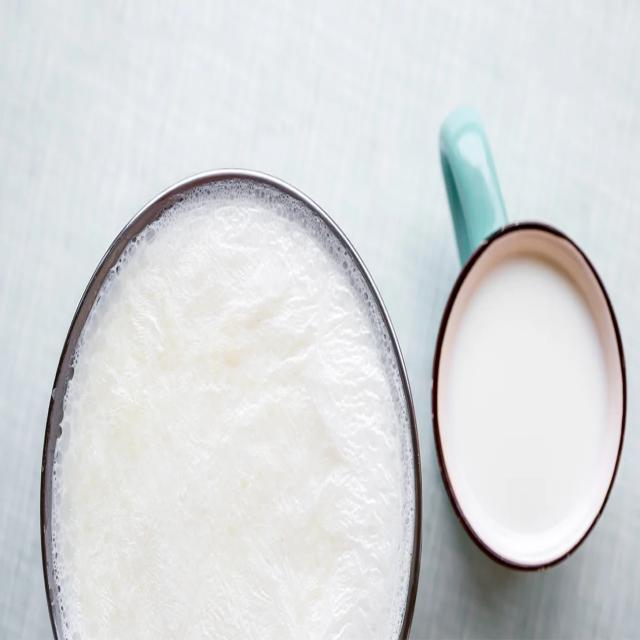Milk carton/jug: (444, 253, 608, 541)
